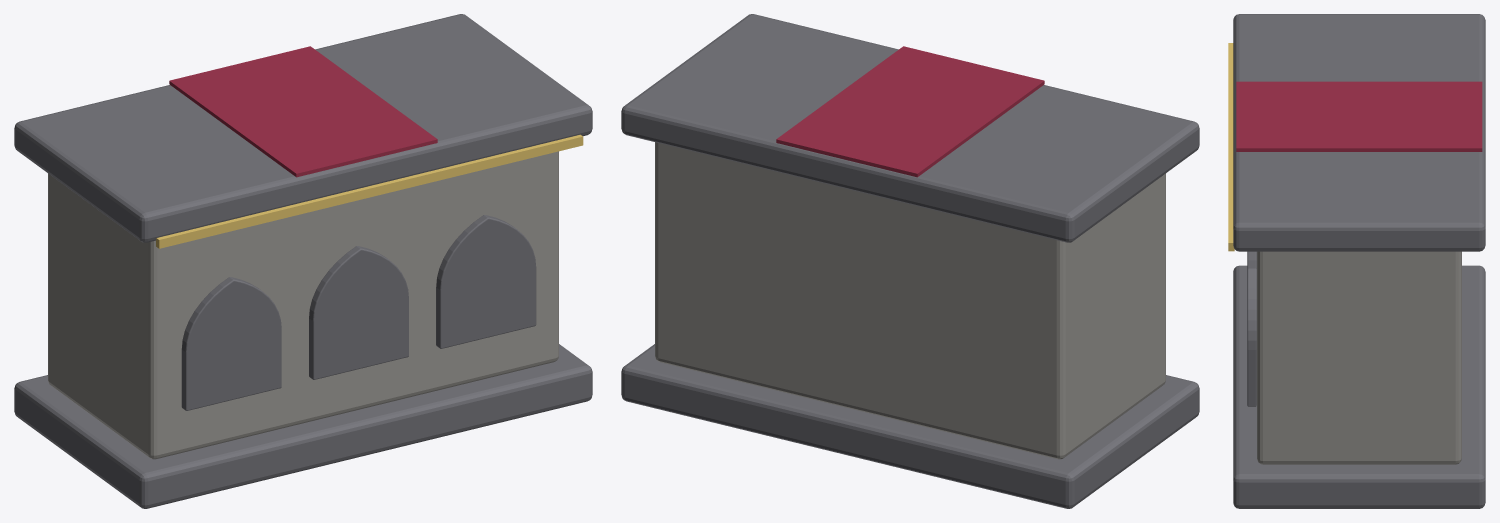
The model's file is altar.glb.
3 views of the same model, side by side, from view 1: azimuth 30°, elevation 25°; view 2: azimuth 150°, elevation 25°; view 3: azimuth 270°, elevation 25° (orthographic). The views are drawn at different scales.
Visible parts, largest first — view 1: GD_altar; view 2: GD_altar; view 3: GD_altar.
Part boxes in pixels (left/top/right/bottom): GD_altar: left=14, top=14, right=592, bottom=508; GD_altar: left=621, top=14, right=1199, bottom=508; GD_altar: left=1228, top=14, right=1485, bottom=508.
Bounding box in the file's own units: 1.6 × 1.01 × 0.815.
